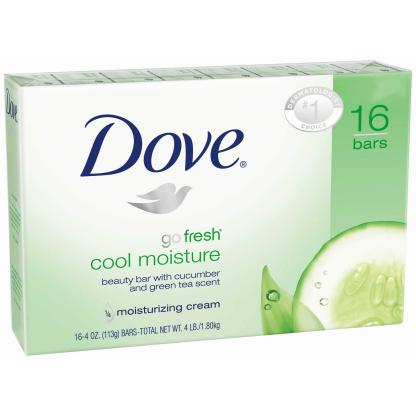soap: (0, 49, 414, 359)
